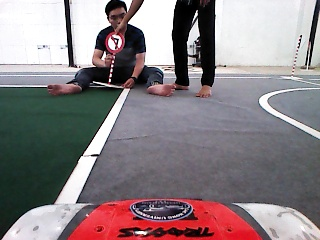ban: (105, 30, 126, 54)
